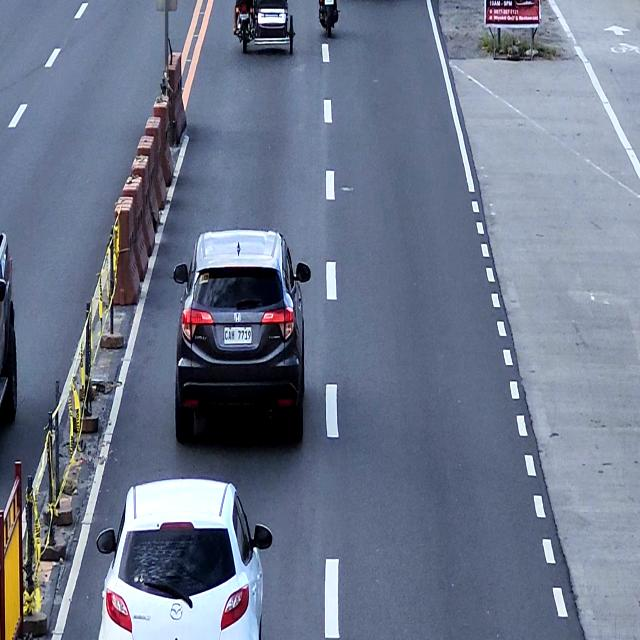Car: (172, 228, 311, 444), (95, 477, 272, 639)
License-Plate: (222, 323, 253, 345), (325, 0, 334, 5)
Motorcycle: (318, 0, 339, 37)
Tricycle: (233, 0, 295, 55)
